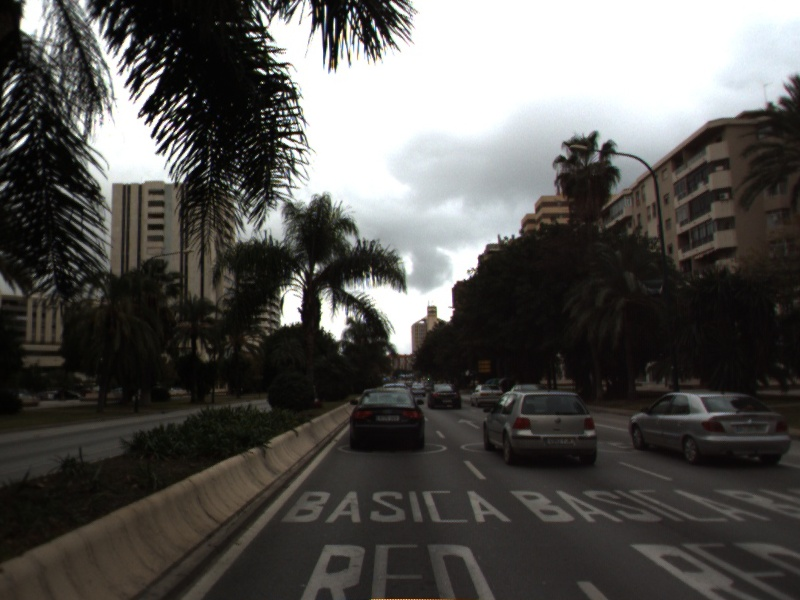STRAIGHT: (454, 416, 482, 432)
